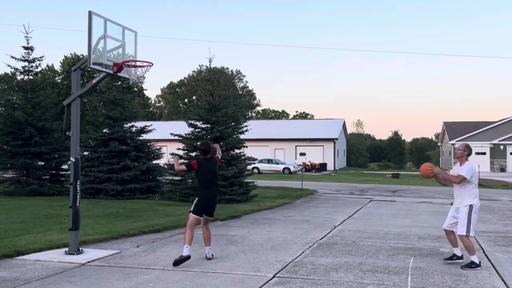ball: (420, 162, 437, 178)
human: (426, 144, 482, 270), (170, 142, 222, 268)
rim: (122, 60, 153, 86)
